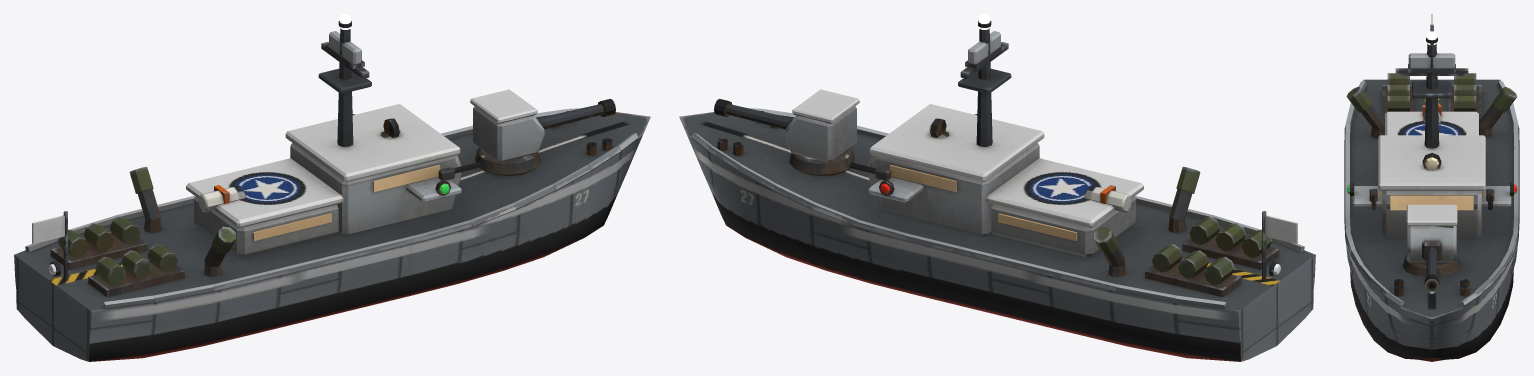
File: pt.allies.glb
The picture shows the model from 3 angles, left to right: view 1: azimuth 30°, elevation 25°; view 2: azimuth 150°, elevation 25°; view 3: azimuth 270°, elevation 25°; orthographic projection. The views are drawn at different scales.
Visible parts, largest first — view 1: hull_mesh, turret_mesh, b0_mesh, radar_mesh; view 2: hull_mesh, turret_mesh, b0_mesh, radar_mesh; view 3: hull_mesh, turret_mesh, radar_mesh, b0_mesh.
Boxes of the visible parts, x1,y1,x2,y2 form: hull_mesh: (14,14,650,361); turret_mesh: (470,89,544,175); b0_mesh: (537,99,615,129); radar_mesh: (326,31,364,69); hull_mesh: (679,14,1315,361); turret_mesh: (785,89,859,175); b0_mesh: (714,99,792,129); radar_mesh: (965,31,1003,69); hull_mesh: (1344,14,1519,361); turret_mesh: (1402,204,1461,276); radar_mesh: (1408,53,1455,72); b0_mesh: (1424,247,1439,291).
Bounding box in the file's own units: 0.951 × 0.405 × 0.265.
2 materials, 1 textured.
